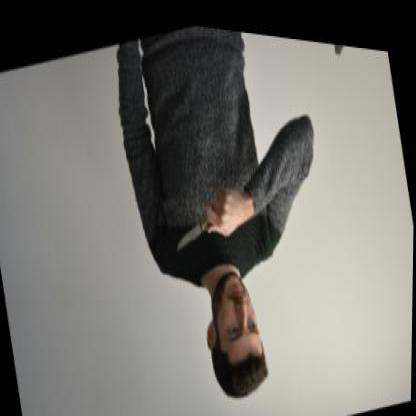knife: (168, 191, 224, 255)
